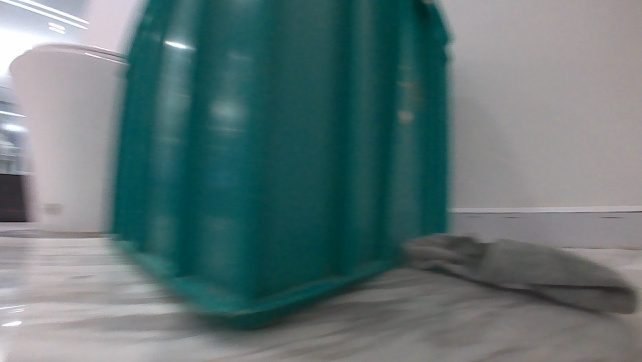socks: (398, 228, 636, 314)
toilet: (6, 35, 129, 236)
